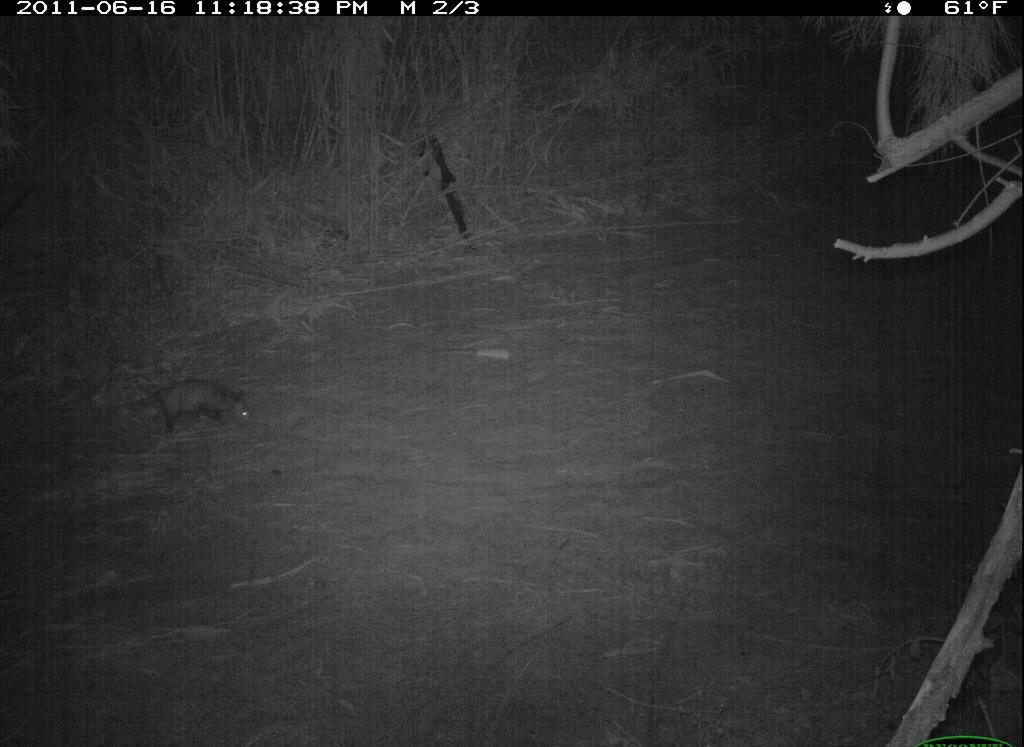opossum: (123, 374, 262, 438)
